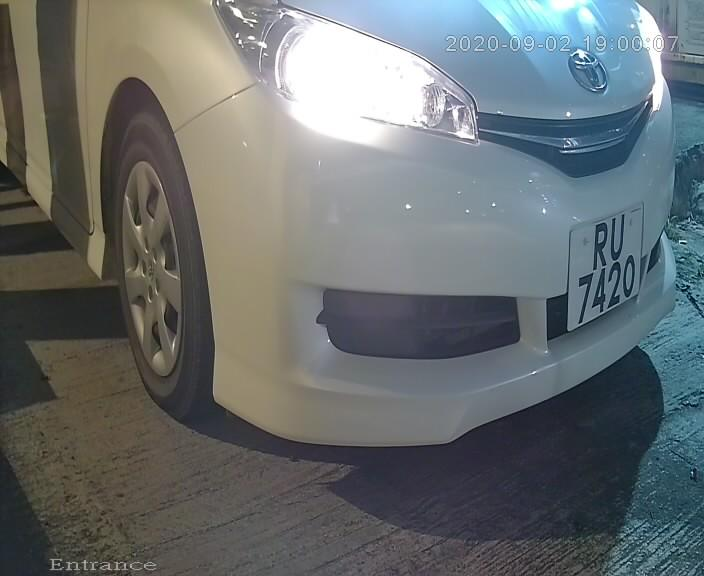License Plate: (560, 183, 654, 355)
